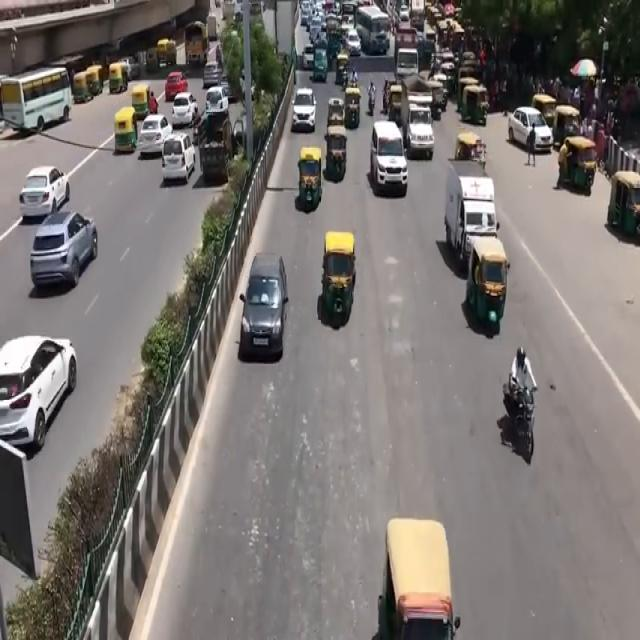BUS: (4, 67, 74, 136), (355, 5, 390, 56)
MOTORCYCLE: (519, 387, 541, 467)
TRUCK: (184, 22, 208, 68)
